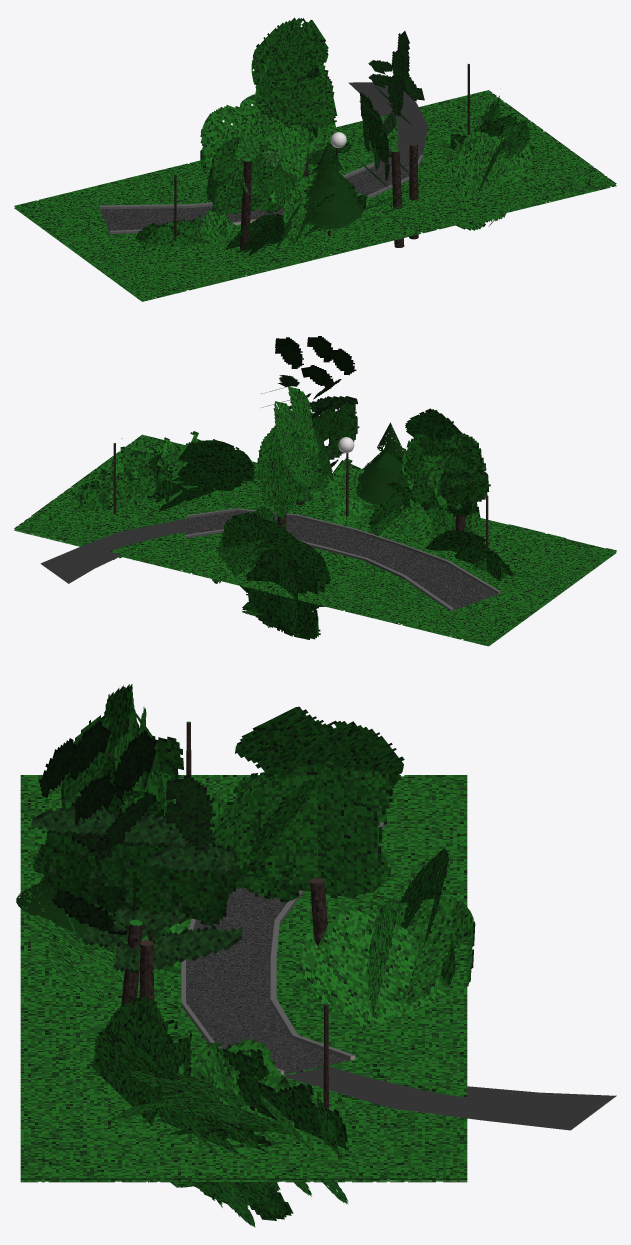
Rendered from dark_park.gltf.
3 views of the same model, one above another, from view 1: azimuth 30°, elevation 25°; view 2: azimuth 150°, elevation 25°; view 3: azimuth 270°, elevation 25° (orthographic). The views are drawn at different scales.
Visible parts, largest first — view 1: Grass 3, circle (×27), road (×2), cone (×4), Grass 2, cylinder (×3), Grass 1; view 2: circle (×45), Grass 3, road (×2), Grass 2, cone (×3), Grass 1; view 3: circle (×54), Grass 3, road (×2), Grass 2, cylinder (×3), Grass 1, cone.
Part boxes in pixels (<box>): Grass 3: <box>14,90,616,299</box>; circle (×27): <box>140,17,534,249</box>; road (×2): <box>99,82,428,234</box>; cone (×4): <box>303,142,362,222</box>; Grass 2: <box>14,93,615,300</box>; cylinder (×3): <box>240,142,418,250</box>; Grass 1: <box>14,118,616,301</box>; circle (×45): <box>75,342,513,633</box>; Grass 3: <box>14,434,616,644</box>; road (×2): <box>40,508,500,611</box>; Grass 2: <box>14,443,616,644</box>; cone (×3): <box>356,422,411,502</box>; Grass 1: <box>14,484,616,646</box>; circle (×54): <box>26,685,475,1227</box>; Grass 3: <box>20,775,467,1178</box>; road (×2): <box>181,822,616,1130</box>; Grass 2: <box>20,776,467,1179</box>; cylinder (×3): <box>121,878,327,1005</box>; Grass 1: <box>20,894,467,1182</box>; cone: <box>16,880,113,922</box>.
Bounding box in the file's own units: 2.14 × 1 × 1.35.
Materials: 4 (4 with a texture image).
